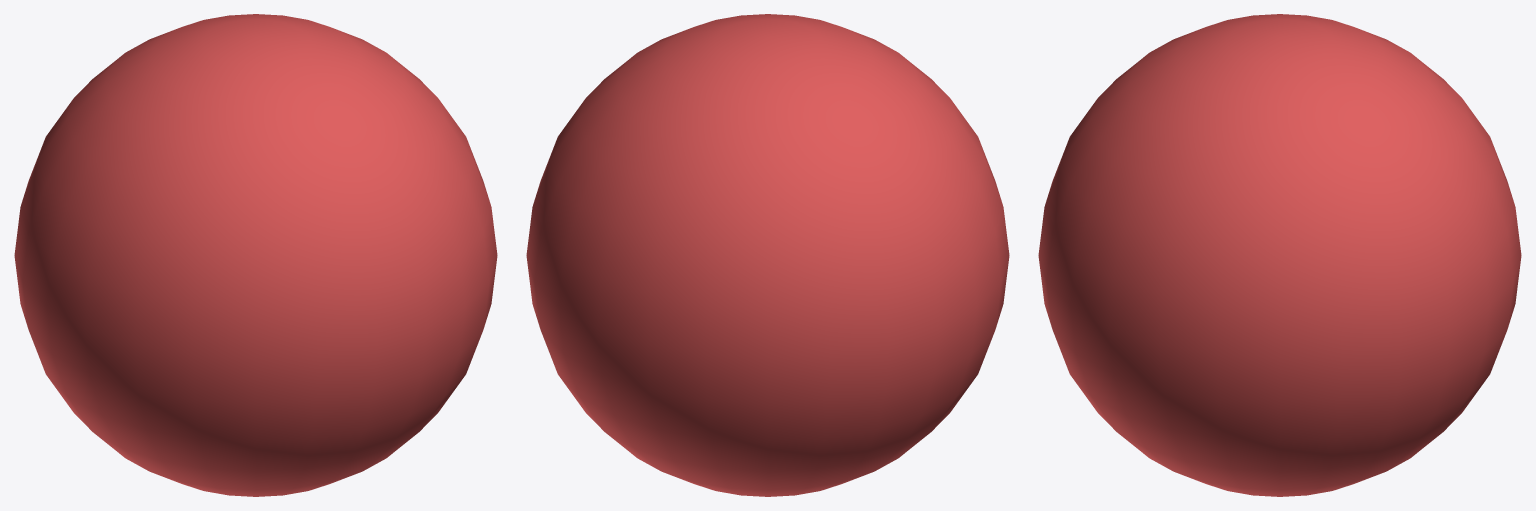
File: mat-clearcoat.gltf
3 views of the same model, side by side, from view 1: azimuth 30°, elevation 25°; view 2: azimuth 150°, elevation 25°; view 3: azimuth 270°, elevation 25° (orthographic).
Size of the model in its own units: 2 by 2 by 2.
